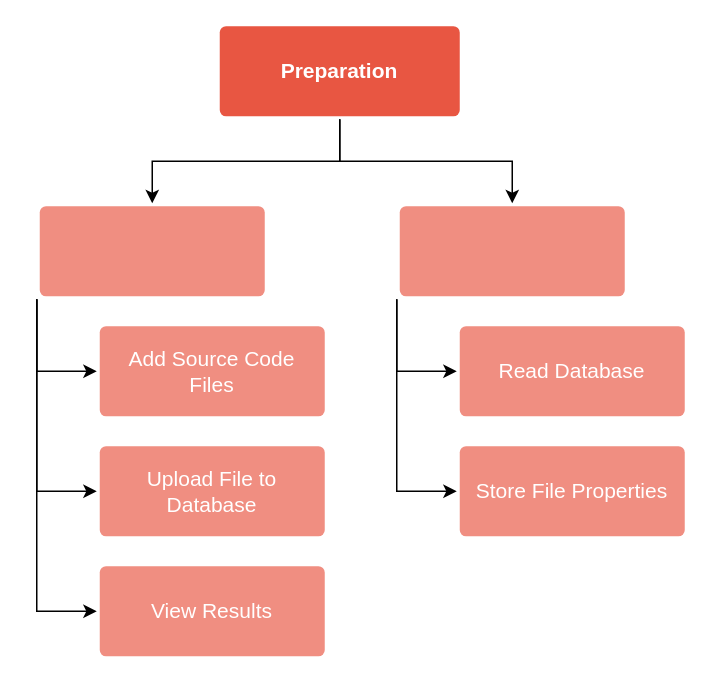
This 711x681 diagram has some shape labels left out. The box of each missing label's shape, as (x1, y1, x2, y2) in pixels:
File Reader: (399, 206, 624, 296)
User: (39, 206, 264, 296)
